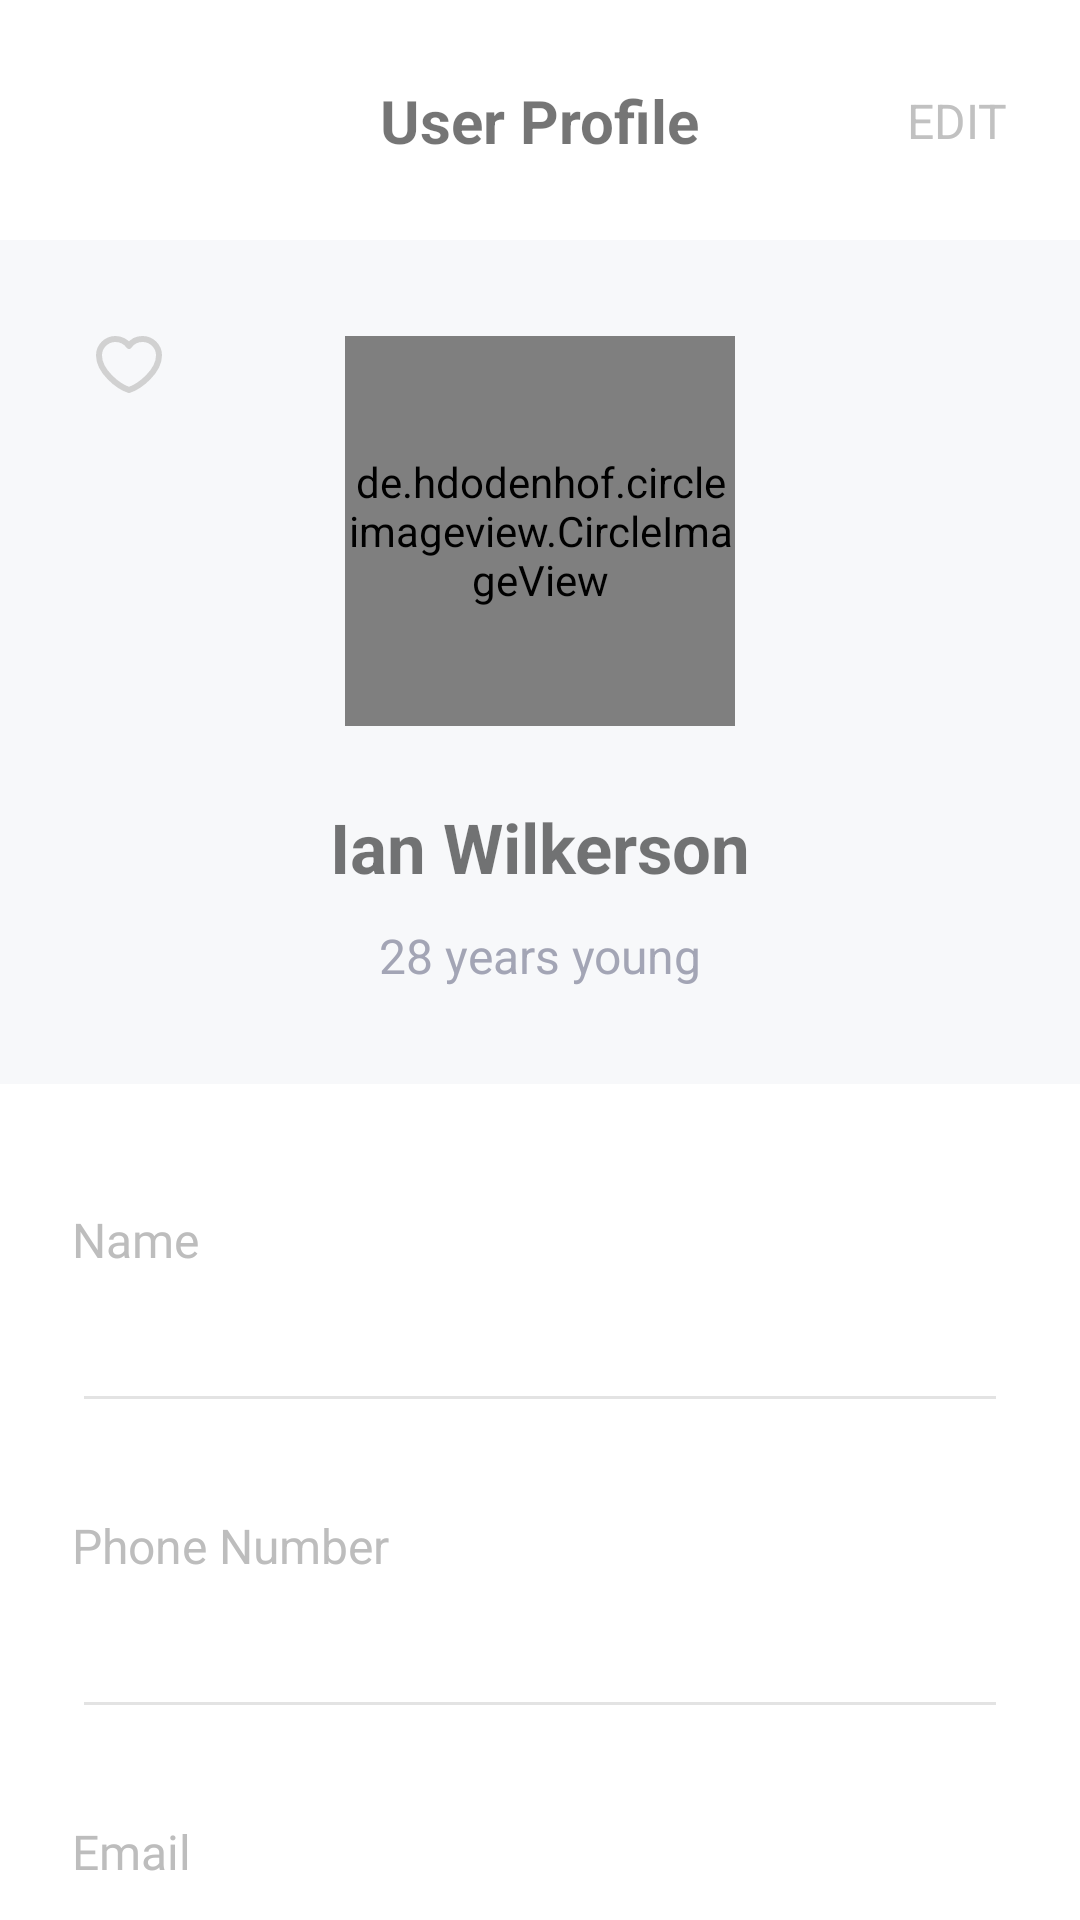

Locate icon controls on the screen. Image size 1080w x 1920h, boxes as box=[x1, y1, x2, y2].
heart: box=[96, 336, 162, 393]
